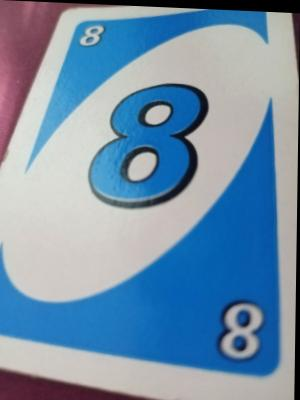blue: (60, 23, 267, 364)
num_8: (215, 294, 267, 367), (77, 20, 107, 49)
